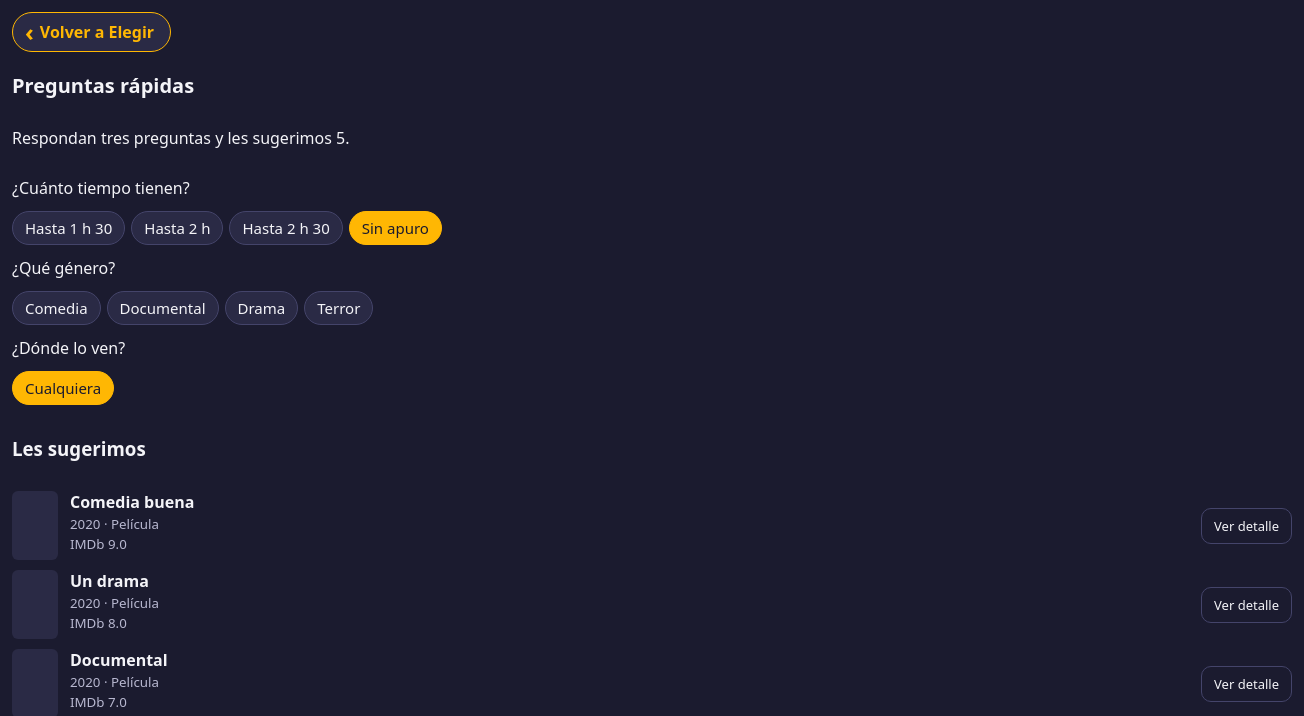
it: with a single genre match it fills and says so
The image size is (1304, 716).
Expected: the heading "Les sugerimos" is shown, [12, 436, 146, 461]
Click the button "Terror" at (339, 308), box [304, 291, 373, 325]
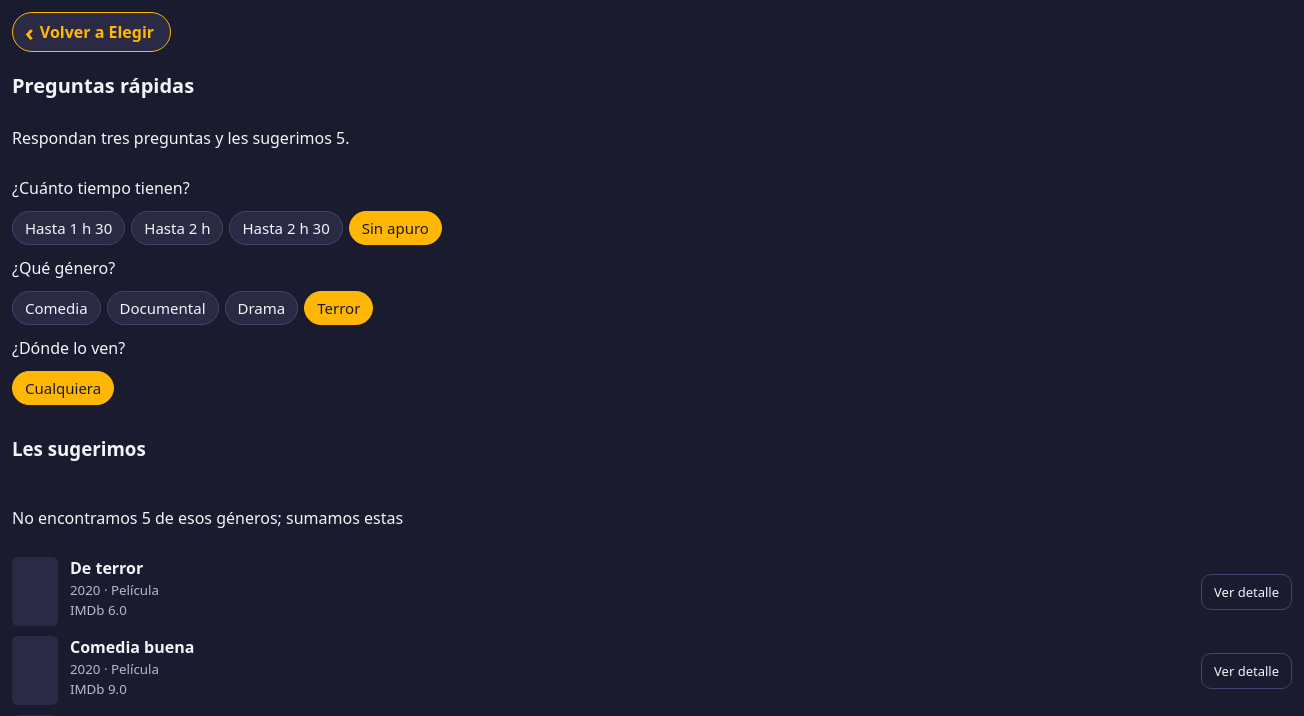
Now the text "No encontramos 5 de esos géneros; sumamos estas" is shown, box [12, 507, 403, 529]
